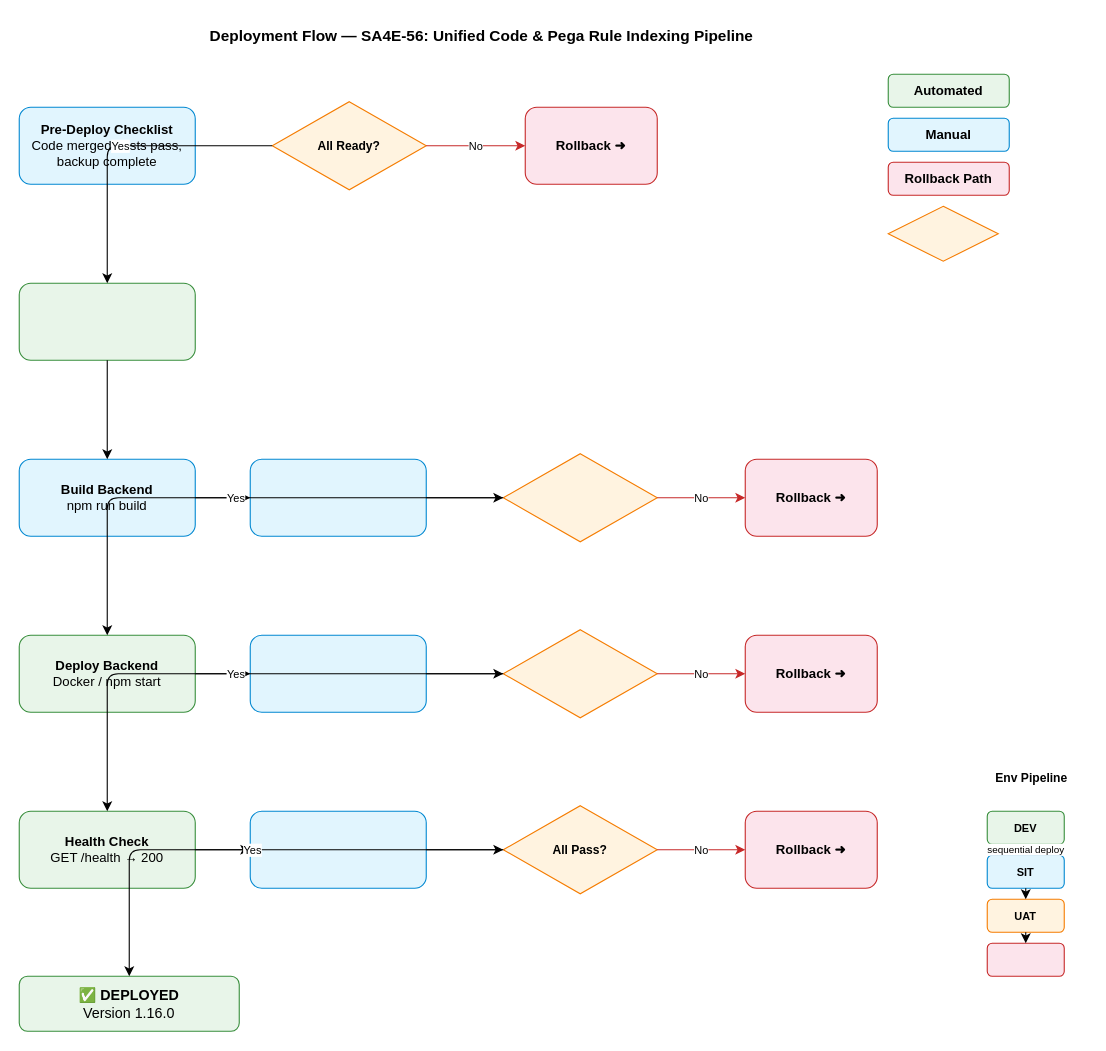
This 1106x1051 diagram has some shape labels left out. The shapes that lost their labels are listed below. From the top down, each one's box as (x1, y1, x2, y2) in pixels, then its label:
(887, 205, 998, 261): Decision Gate
(18, 282, 195, 360): DB Migration No migration required (existing tables used)
(249, 458, 426, 536): Build Extension npm run package:prod
(502, 453, 657, 542): Build OK?
(249, 634, 426, 712): Install Extension code --install-extension *.vsix
(502, 629, 657, 718): Deploy OK?
(249, 810, 426, 888): Smoke Tests Index API, dedup, path safety
(986, 942, 1064, 976): PROD
